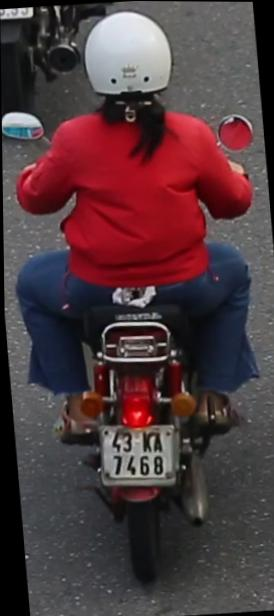LP: (89, 415, 186, 495)
helmet: (82, 0, 180, 144)
